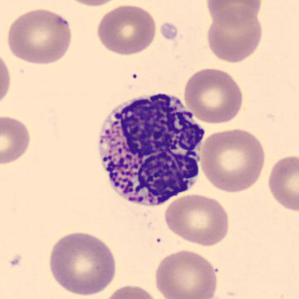Basophil: (89, 84, 210, 215)
Platelets: (158, 22, 178, 42)
RBC: (44, 228, 119, 298), (198, 125, 268, 194), (4, 5, 75, 66), (162, 192, 232, 247), (182, 65, 245, 125), (204, 6, 265, 64), (152, 247, 220, 299), (94, 2, 158, 57), (265, 152, 298, 214), (0, 113, 33, 166), (203, 0, 264, 26), (101, 282, 162, 299), (0, 48, 13, 109), (58, 0, 125, 7)
